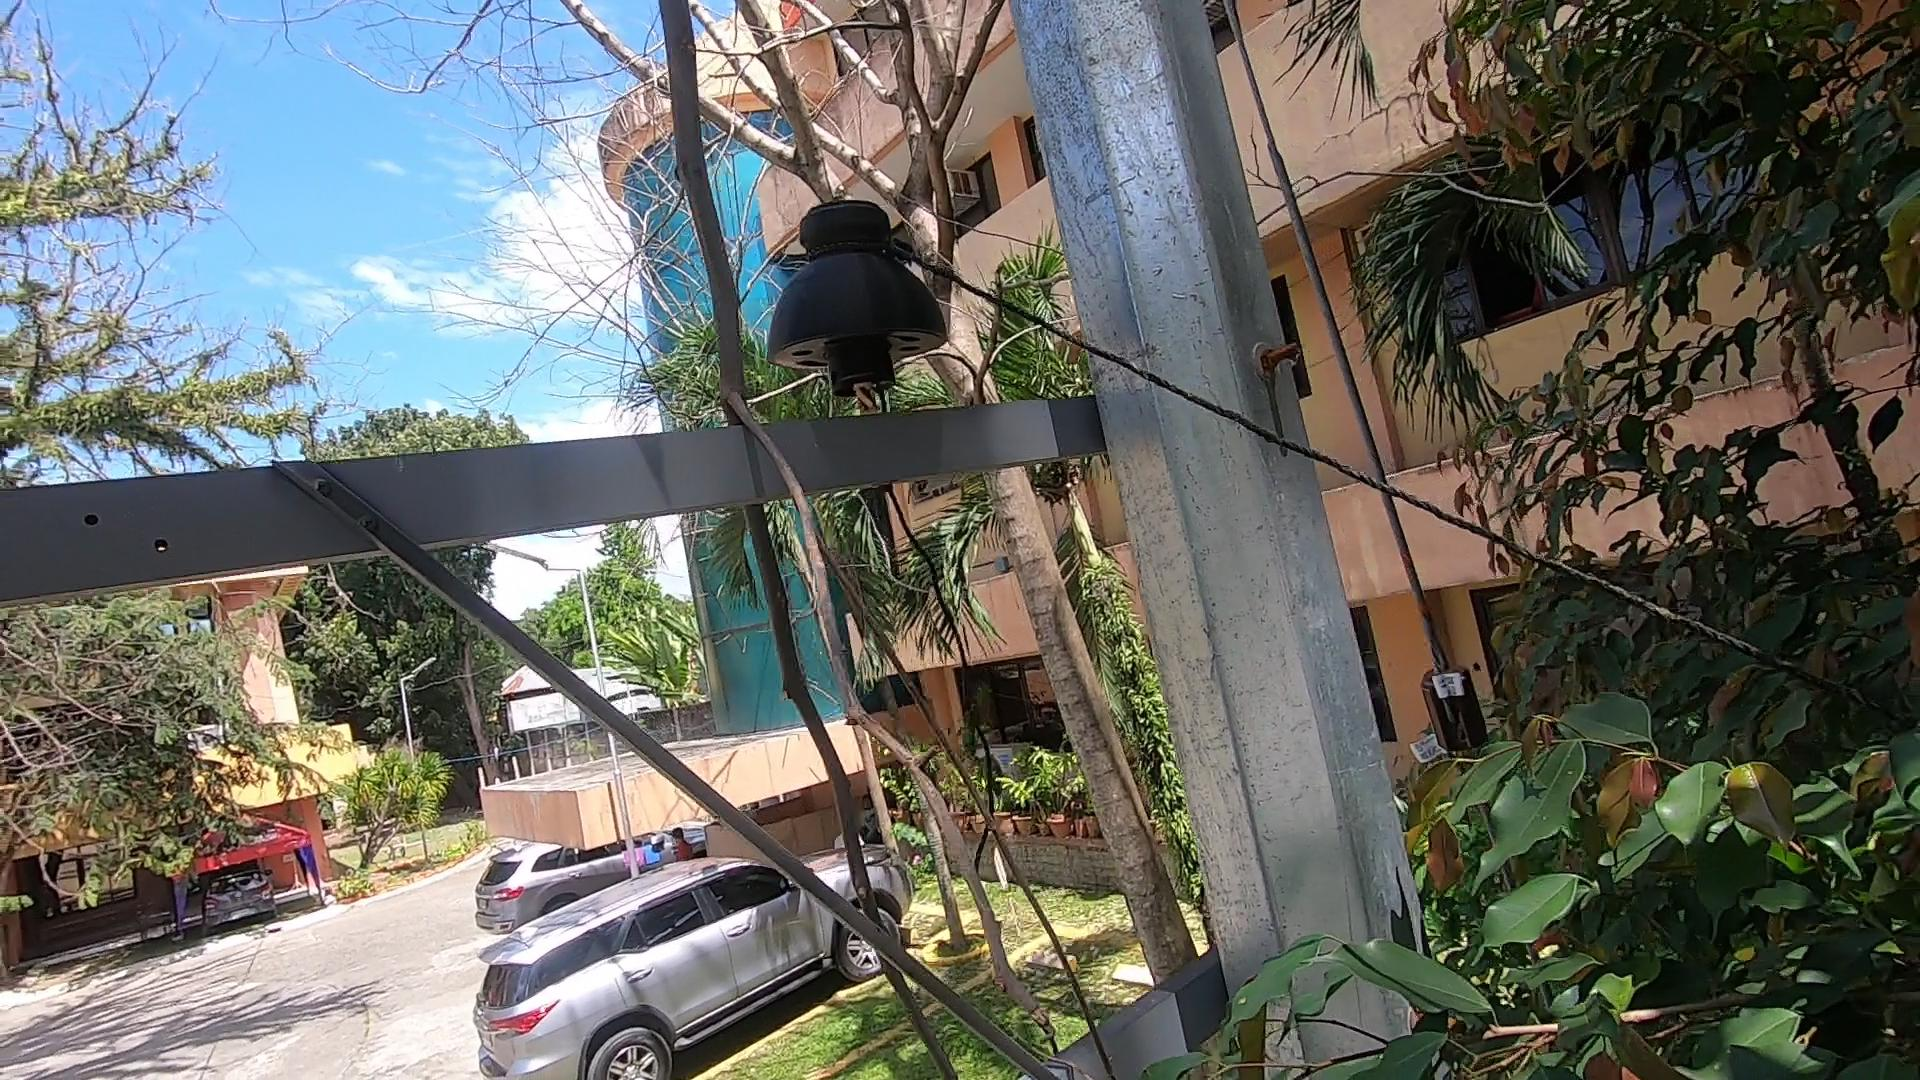tree branch: (620, 5, 1133, 1080)
